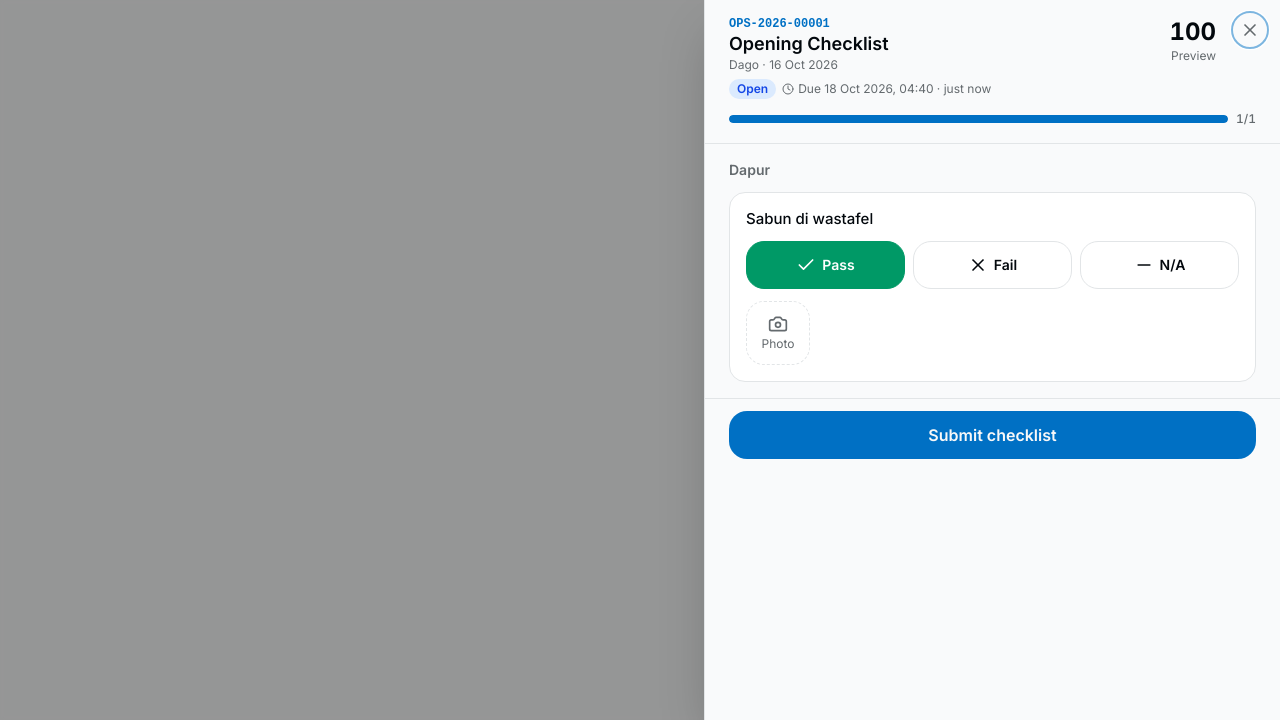
Scenario: ChecklistRunner › a submit queued offline locks the form and says it will be sent
Click the button "Submit checklist" at [992, 435], box left=729, top=411, right=1256, bottom=459
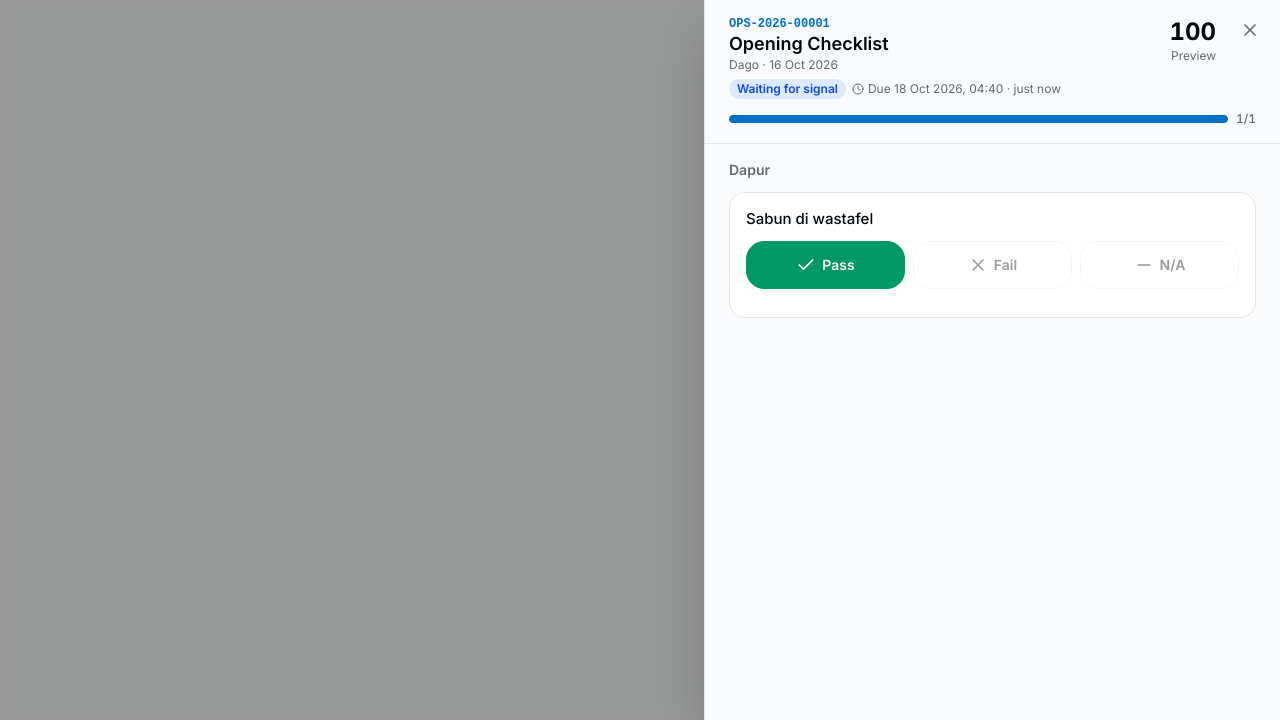
Expected: the text "Waiting for signal" is shown, left=729, top=79, right=846, bottom=99
Expected: the button "Submit checklist" is gone
